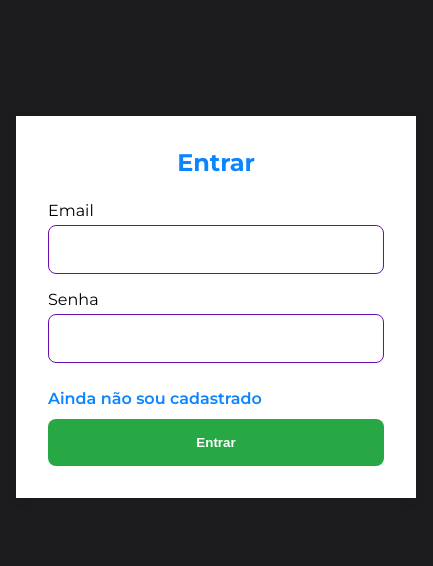
Test: LoginPage Component › deve mostrar o RegisterForm quando clicar em 'Ainda não sou cadastrado'
Click the text "Ainda não sou cadastrado" at coordinates (155, 399), box [48,389,262,409]
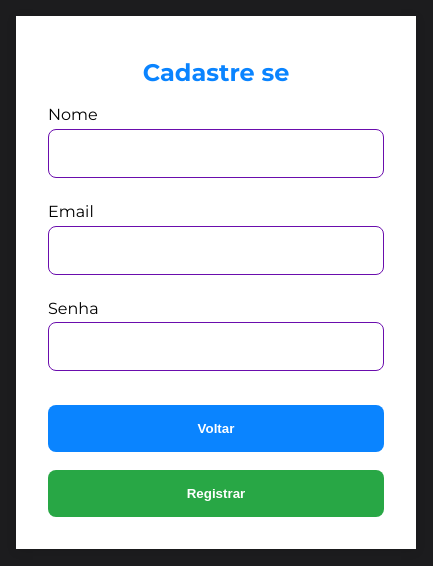
Now the heading "Cadastre se" is shown, box [48,48,384,97]
